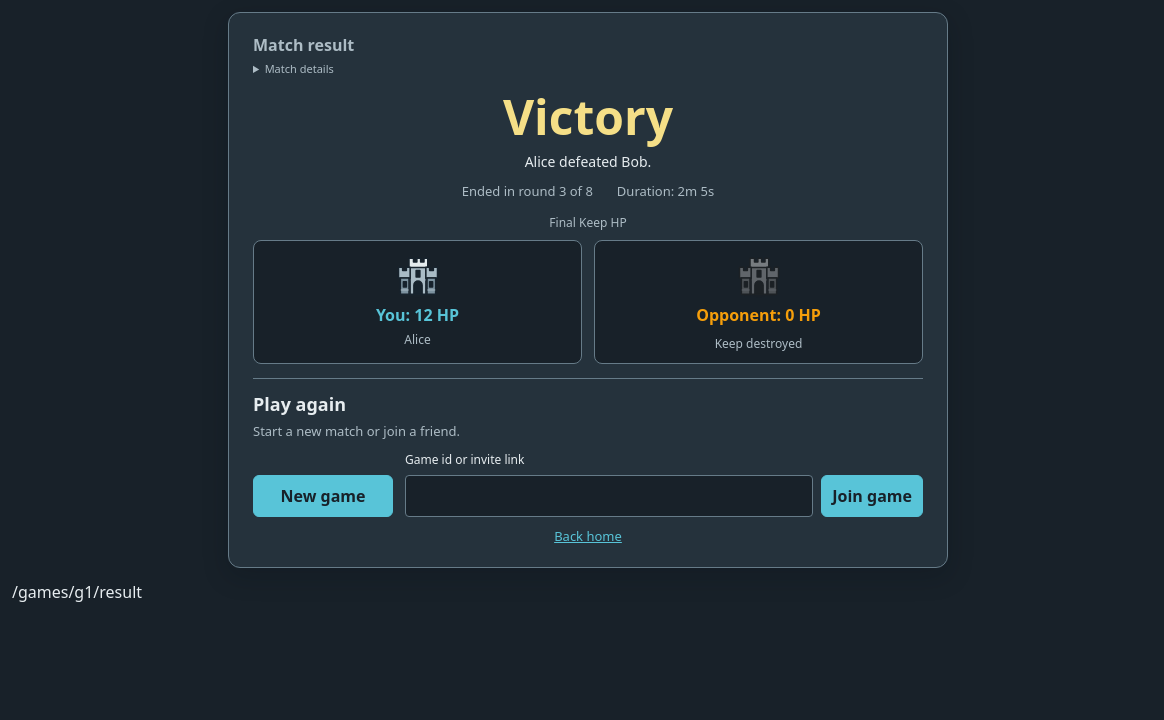
Test: auth and lobby routes › opens finished games on the result page and creates a new game
The width and height of the screenshot is (1164, 720).
Expected: the heading "Victory" is shown, [503,84,673,148]
Expected: the text "Ended in round 3 of 8" is shown, [462,182,593,202]
Step 1. Click the button "New game" → (323,496), box [253,476,393,518]
(page scrolled)
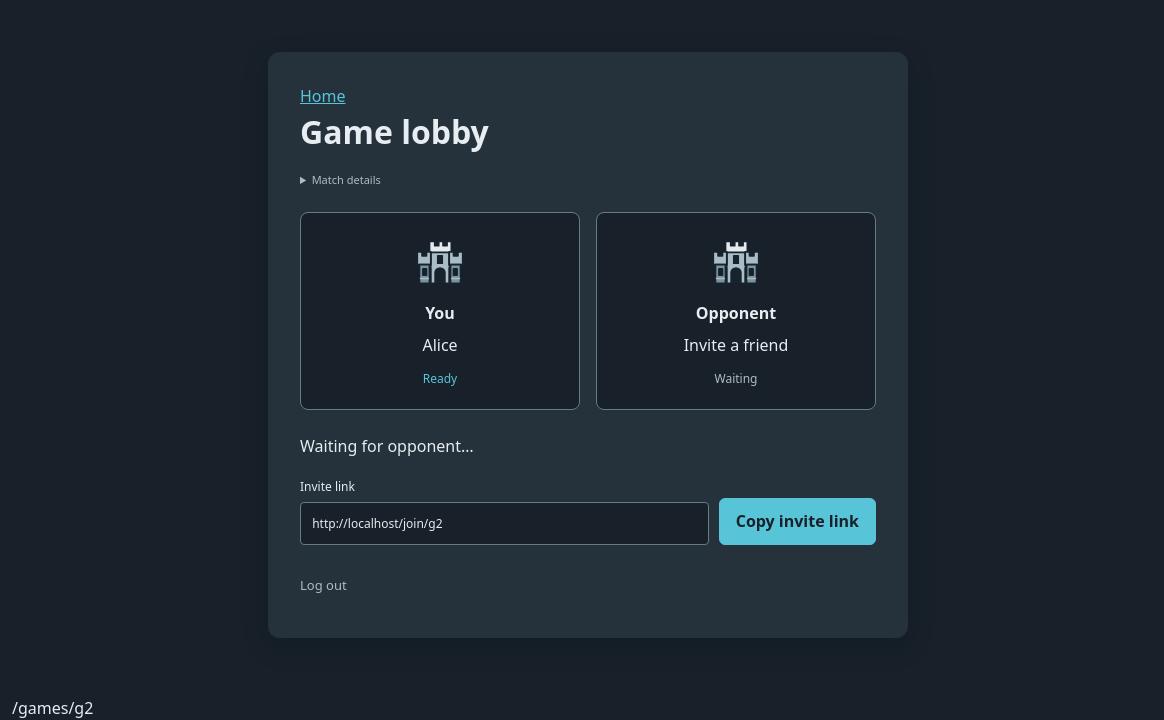
Now the text "Waiting for opponent…" is shown, box [300,435,474,457]
Now the text with test id "location" reads "/games/g2", box [12,696,93,718]
